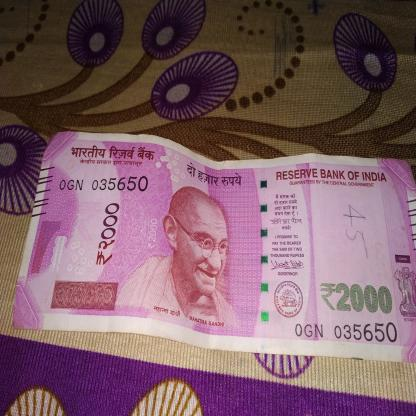New2000Front: (14, 139, 415, 353)
